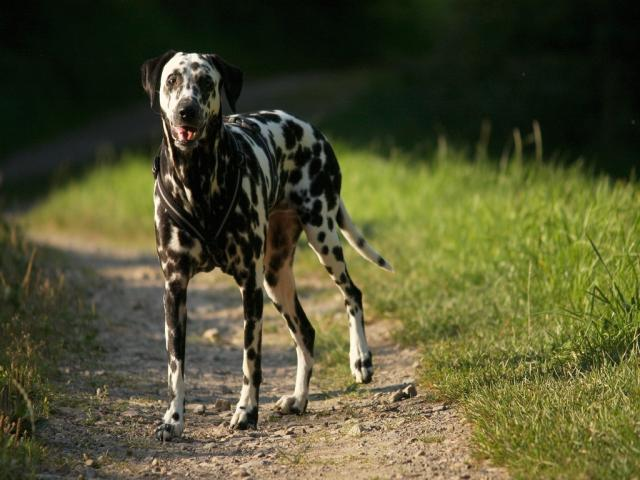Dog: (140, 49, 394, 444)
